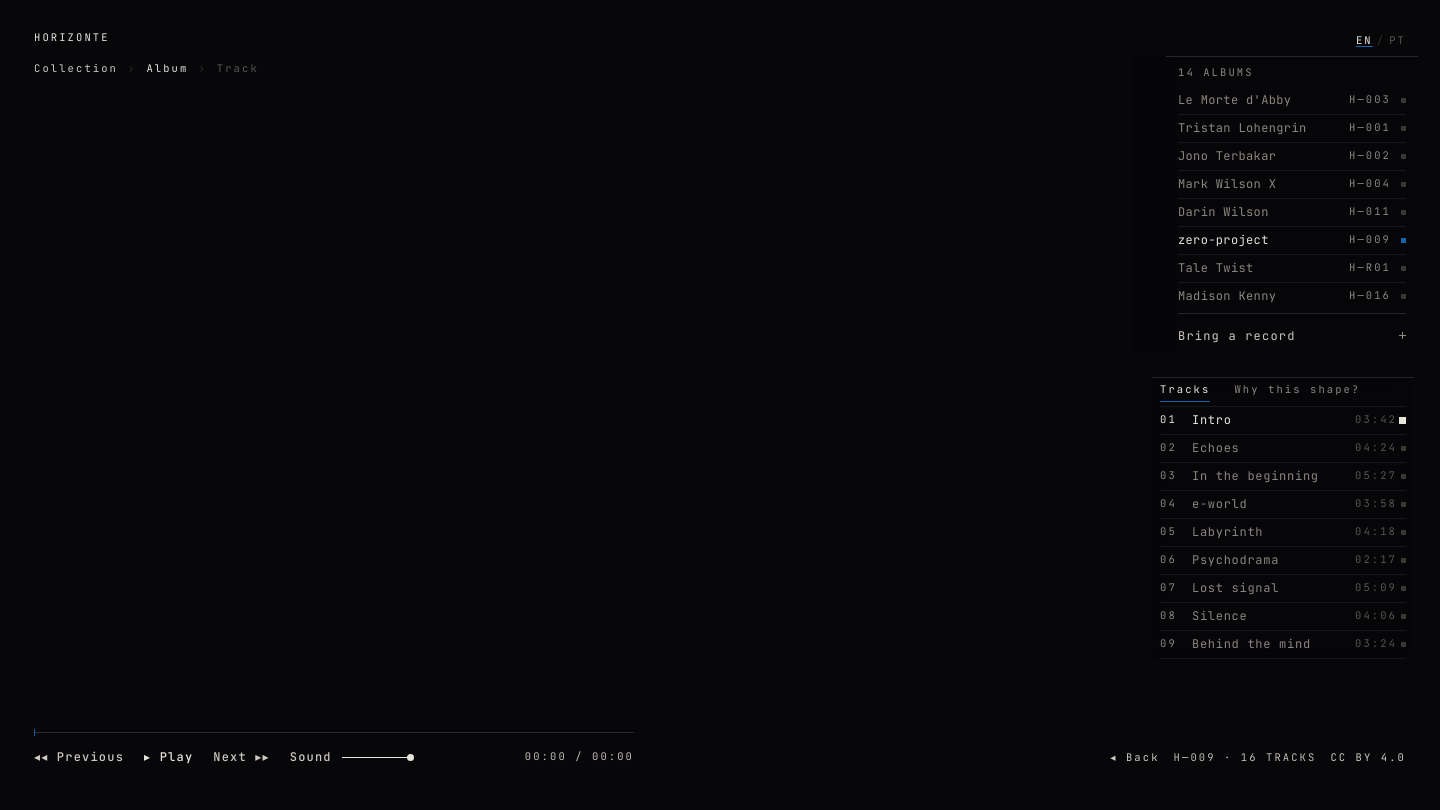
Test case: why this shape › the numbers stay one step away
Click the tab "Why this shape?" at (1297, 390), box [1234,378,1360,402]
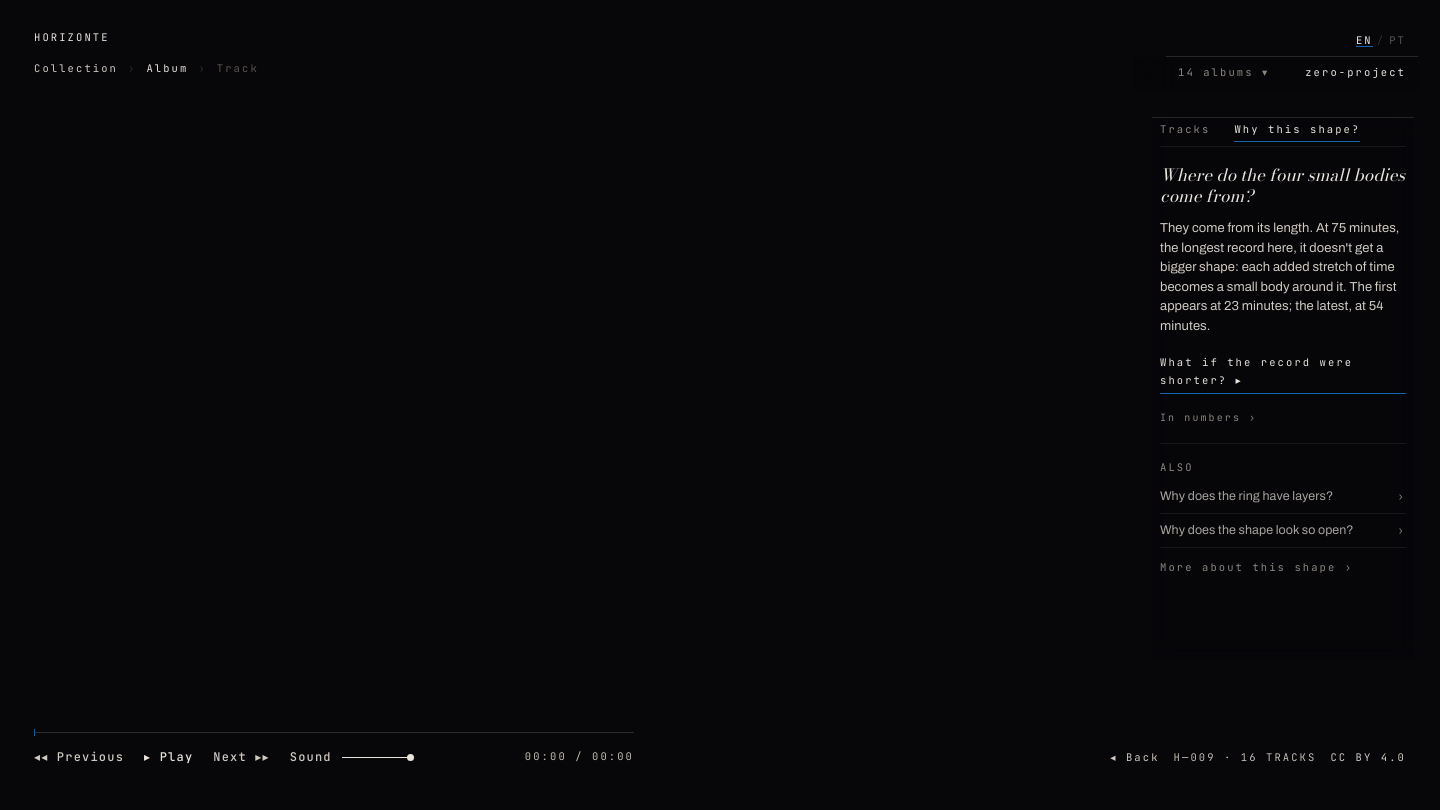
Expected: the text "Typical here" is not shown
Click the button "In numbers ›" at (1209, 418), box [1160,410,1257,425]
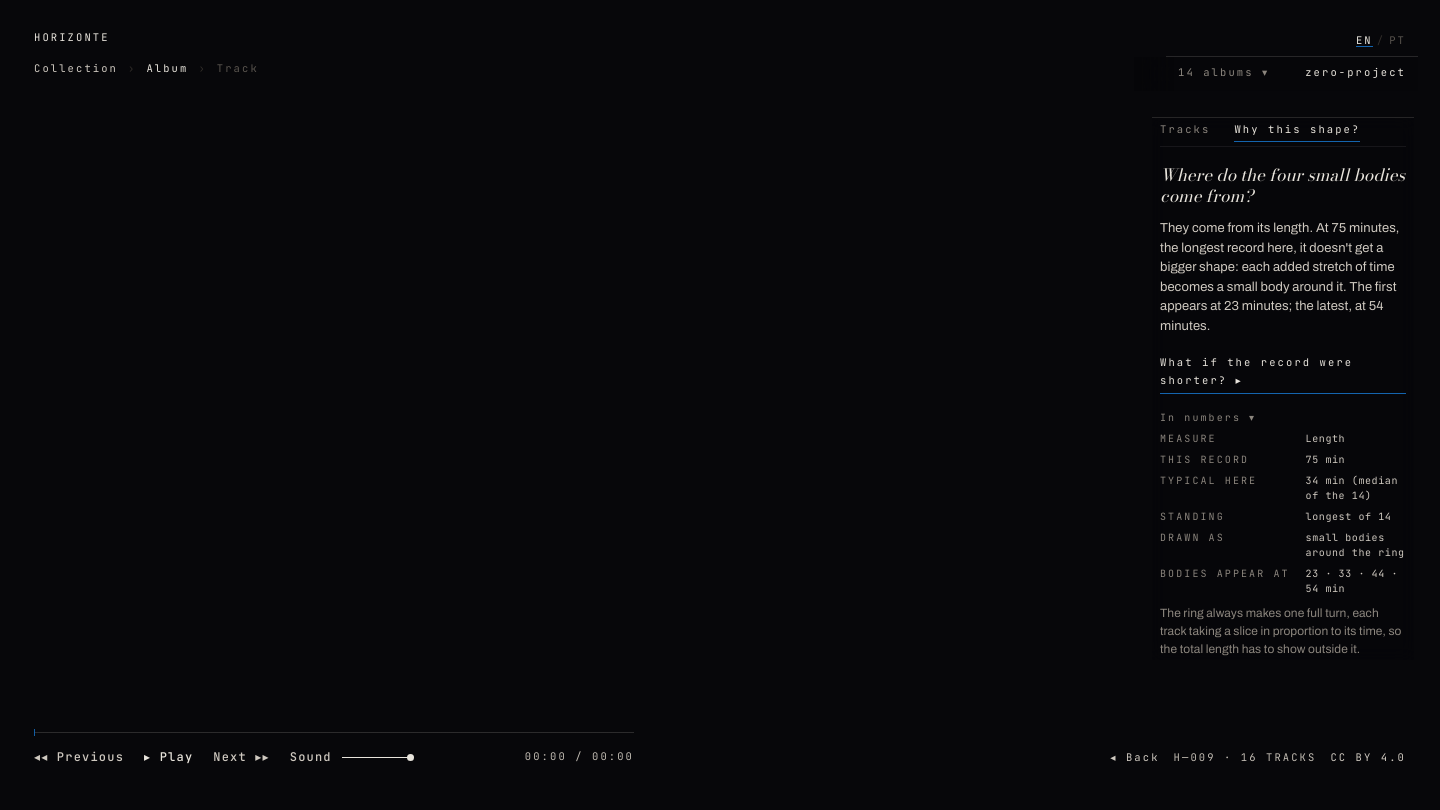
Now the text "Typical here" is shown, box [1160,474,1257,487]
Now the text "34 min (median of the 14)" is shown, box [1306,473,1406,503]
Now the text "longest of 14" is shown, box [1306,509,1406,524]
